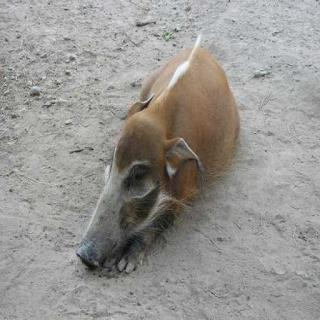Pig: (66, 23, 272, 304)
